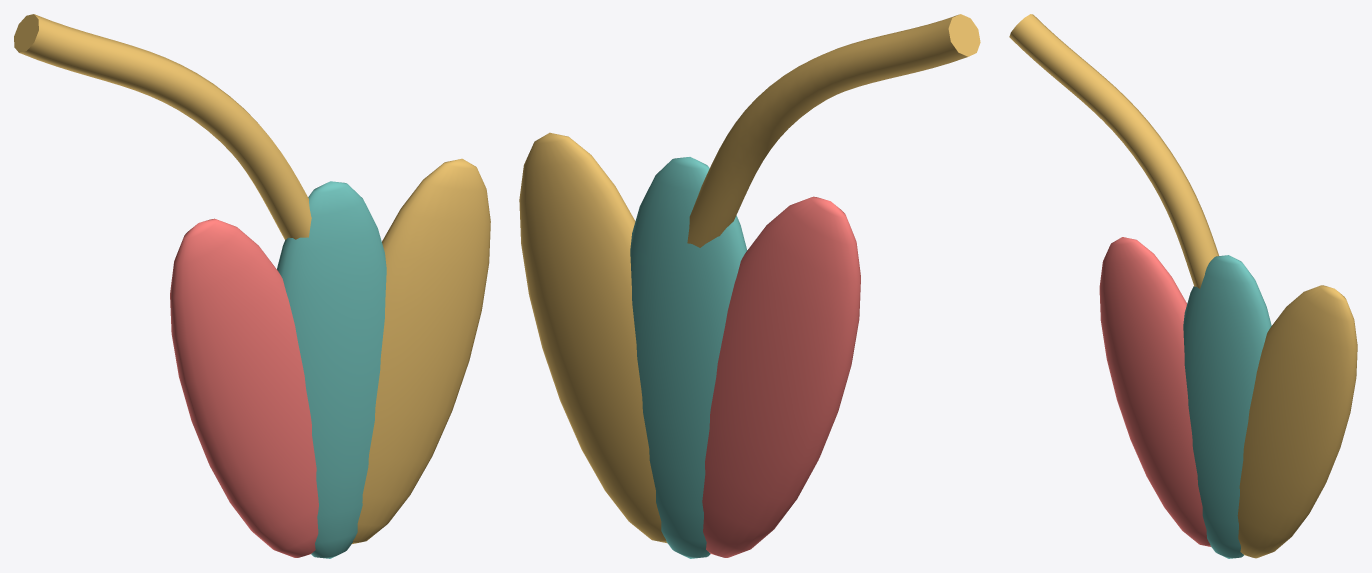
Rendered from guided-feather.glb.
3 views of the same model, side by side, from view 1: azimuth 30°, elevation 25°; view 2: azimuth 150°, elevation 25°; view 3: azimuth 330°, elevation 25° (orthographic). The views are drawn at different scales.
Visible parts, largest first — view 1: Chase feather, Chase feather.002, Chase feather.001, Feather ribbon; view 2: Chase feather, Chase feather.002, Chase feather.001, Feather ribbon; view 3: Chase feather.002, Chase feather, Chase feather.001, Feather ribbon.
Part boxes in pixels (x1,y1,x2,y2): Chase feather: (170,218,318,557); Chase feather.002: (352,158,490,543); Chase feather.001: (277,181,386,558); Feather ribbon: (14,14,311,239); Chase feather: (702,196,860,557); Chase feather.002: (519,132,667,543); Chase feather.001: (630,157,747,558); Feather ribbon: (687,14,980,247); Chase feather.002: (1237,285,1357,558); Chase feather: (1099,237,1210,546); Chase feather.001: (1183,255,1271,558); Feather ribbon: (1009,14,1218,288).
Size of the model in its own units: 0.4482 by 0.5649 by 0.0848.
